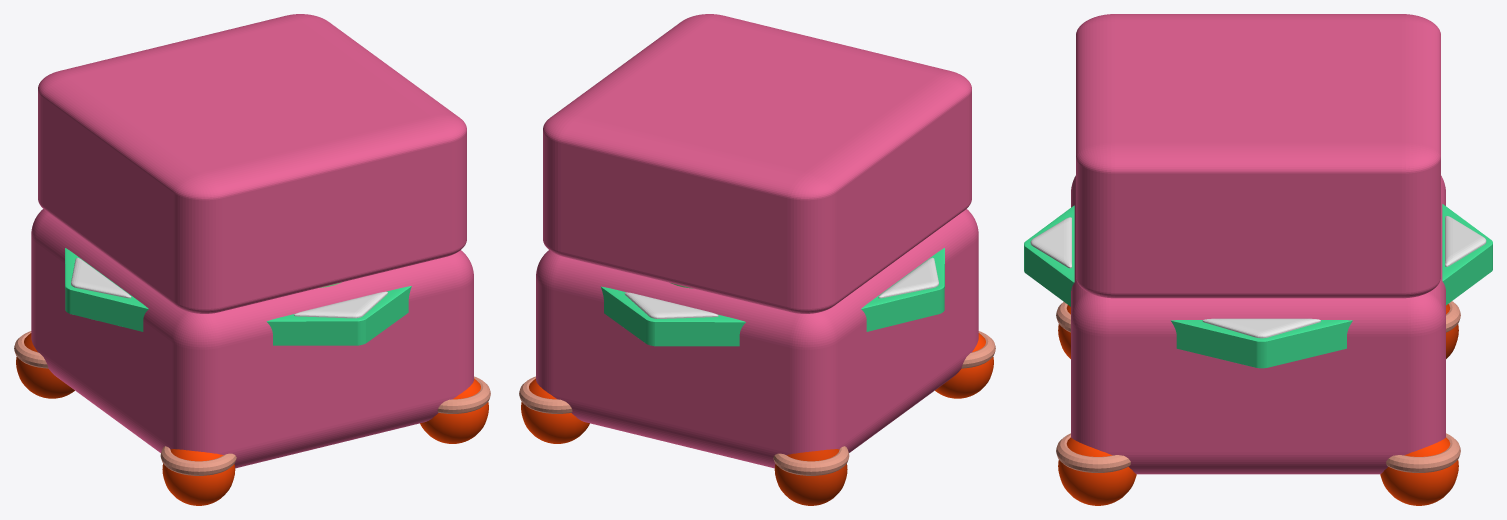
Rendered from WagonAll.fbx.
3 renders of one model, left to right at view 1: azimuth 30°, elevation 25°; view 2: azimuth 150°, elevation 25°; view 3: azimuth 270°, elevation 25°, orthographic. The views are drawn at different scales.
Parts seen in each view (by area): view 1: Cap.001, WagonAll, Direction3.001, Direction.001, Ball2.001, Ball1.001, Ball3.001; view 2: Cap.001, WagonAll, Direction2.001, Direction.001, Ball3.001, Ball.001, Ball2.001; view 3: Cap.001, WagonAll, Direction1.001, Direction3.001, Direction2.001, Ball1.001, Ball.001.
Part boxes in pixels (<box>): Cap.001: <box>38,14,466,313</box>; WagonAll: <box>14,209,490,475</box>; Direction3.001: <box>266,286,411,345</box>; Direction.001: <box>65,248,148,331</box>; Ball2.001: <box>162,449,235,505</box>; Ball1.001: <box>420,378,488,443</box>; Ball3.001: <box>16,333,74,398</box>; Cap.001: <box>543,14,971,313</box>; WagonAll: <box>519,209,995,475</box>; Direction2.001: <box>601,286,745,346</box>; Direction.001: <box>861,248,944,331</box>; Ball3.001: <box>774,449,847,505</box>; Ball.001: <box>521,378,589,443</box>; Ball2.001: <box>935,333,993,398</box>; Cap.001: <box>1076,14,1440,298</box>; WagonAll: <box>1056,175,1460,474</box>; Direction1.001: <box>1171,318,1352,368</box>; Direction3.001: <box>1024,205,1074,306</box>; Direction2.001: <box>1442,204,1492,305</box>; Ball1.001: <box>1058,437,1136,505</box>; Ball.001: <box>1380,437,1458,505</box>.
Bounding box in the file's own units: 257 × 213 × 257.
